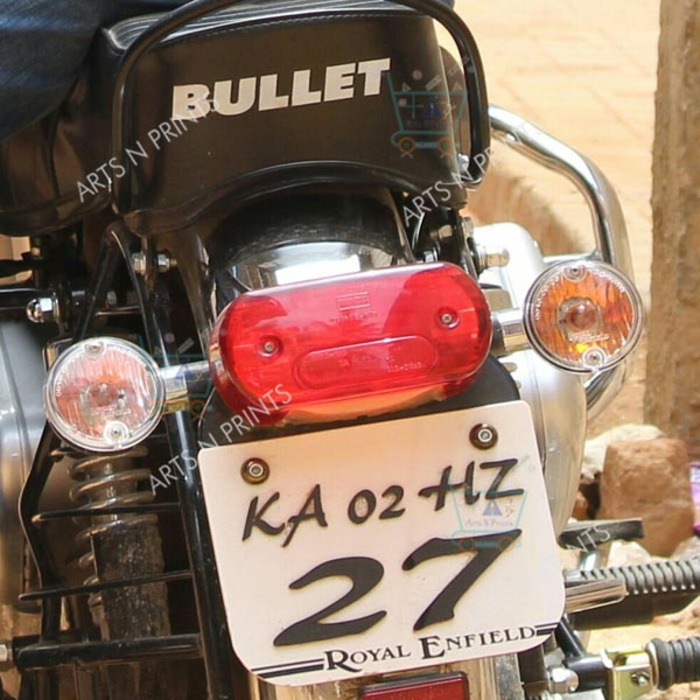n: (179, 398, 578, 666)
